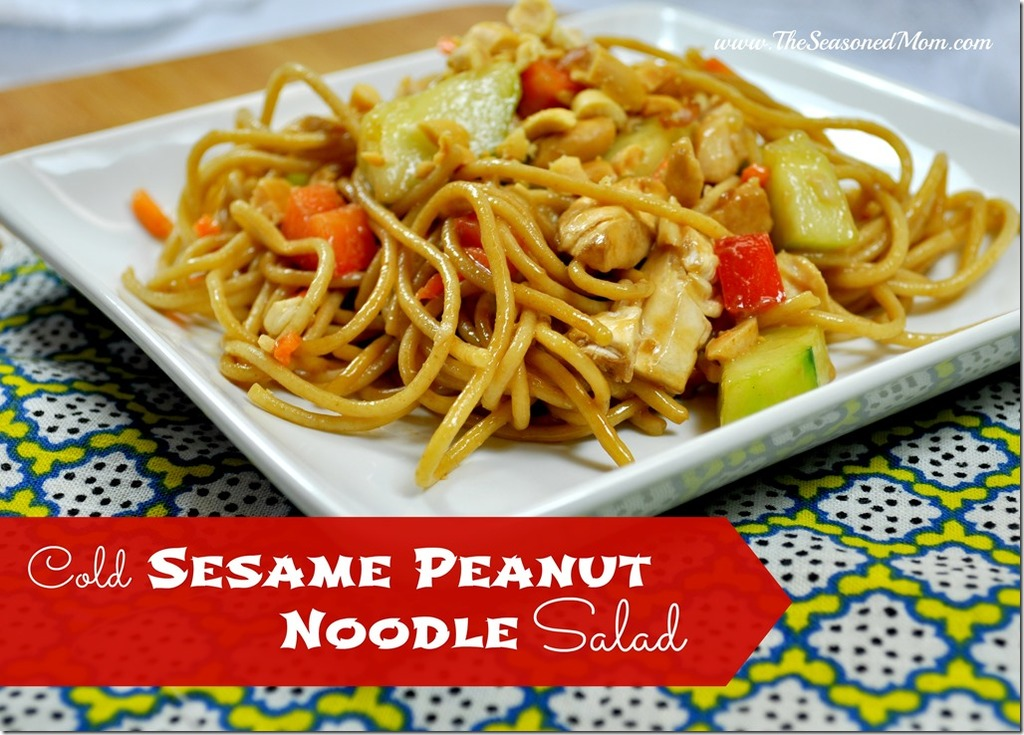pasta: (127, 10, 970, 466)
